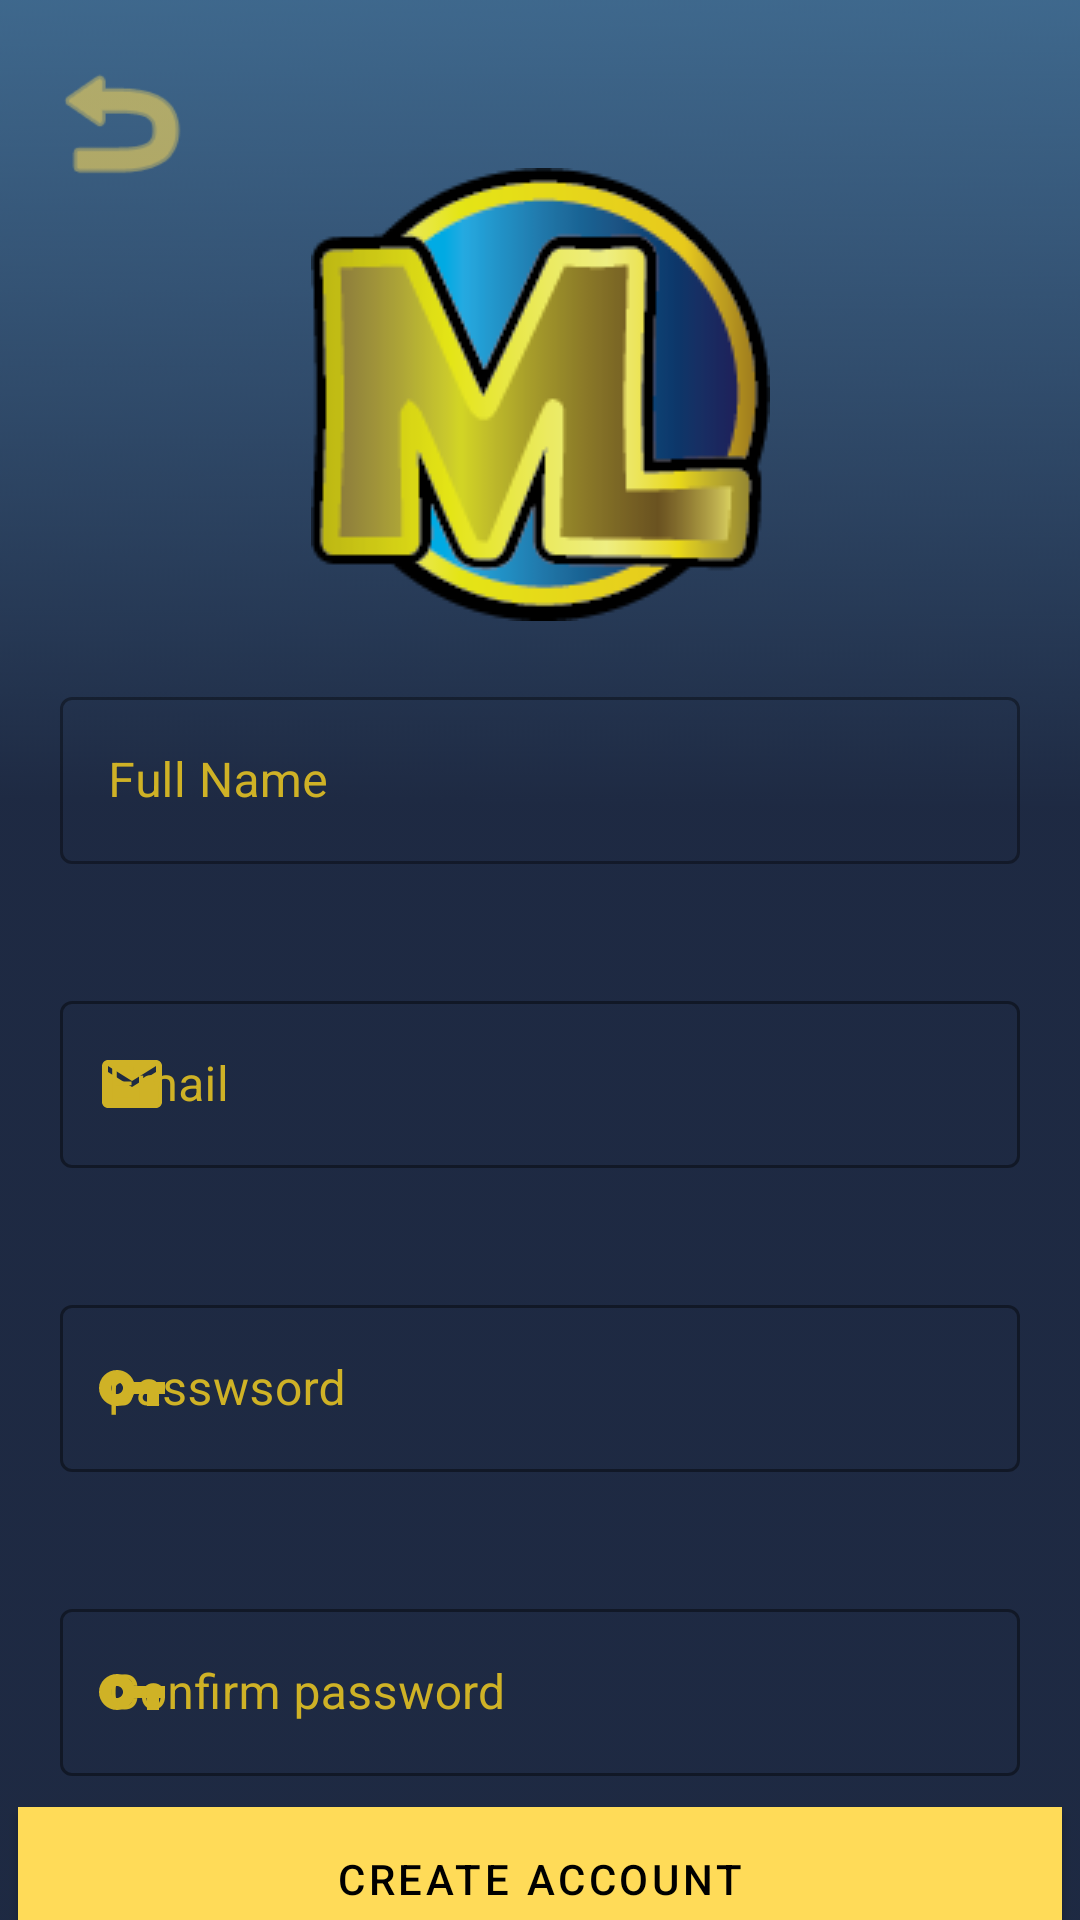

Screen size 1080 x 1920. Icon name, then its center in pixels as [x,y]:
revert: [122,124]
